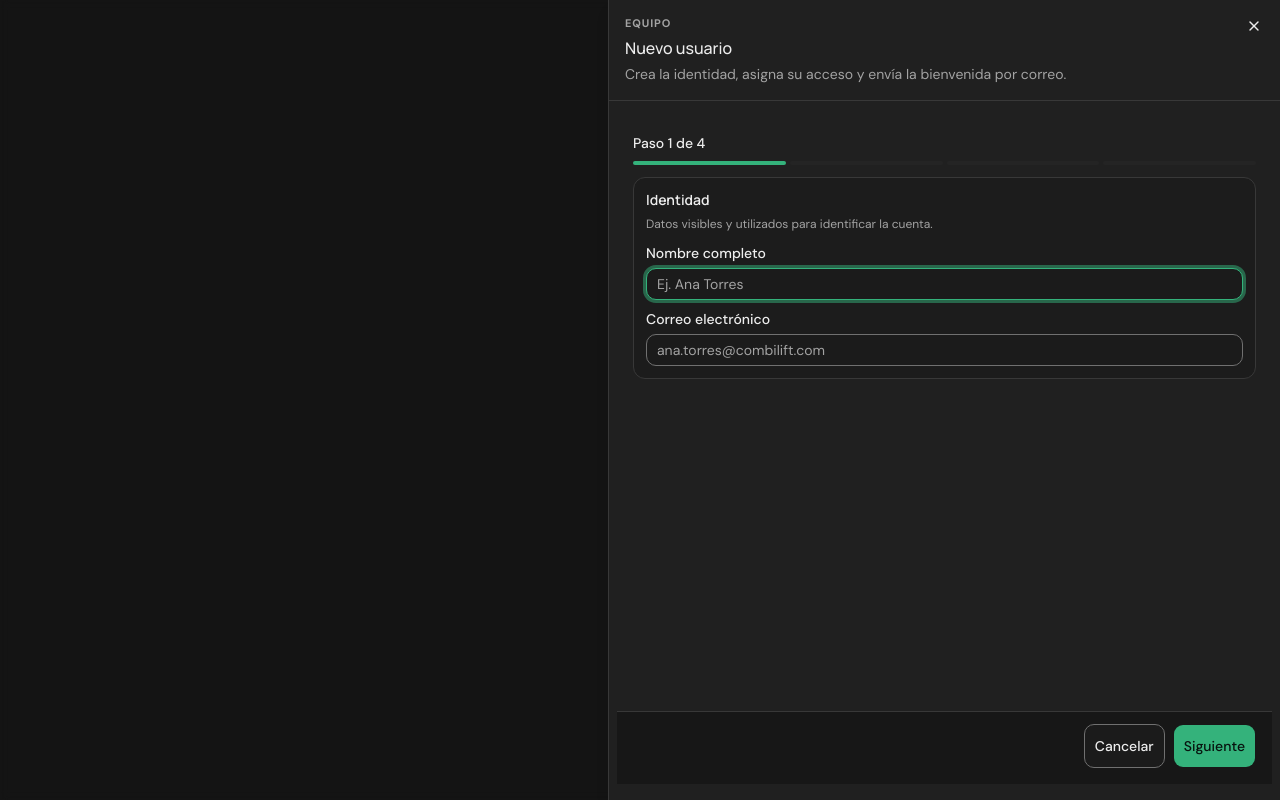
Test: ManagedUserSheet › does not advance without identity fields and explains what is missing
Click the button "Siguiente" at (1214, 746), box [1173,724,1256,768]
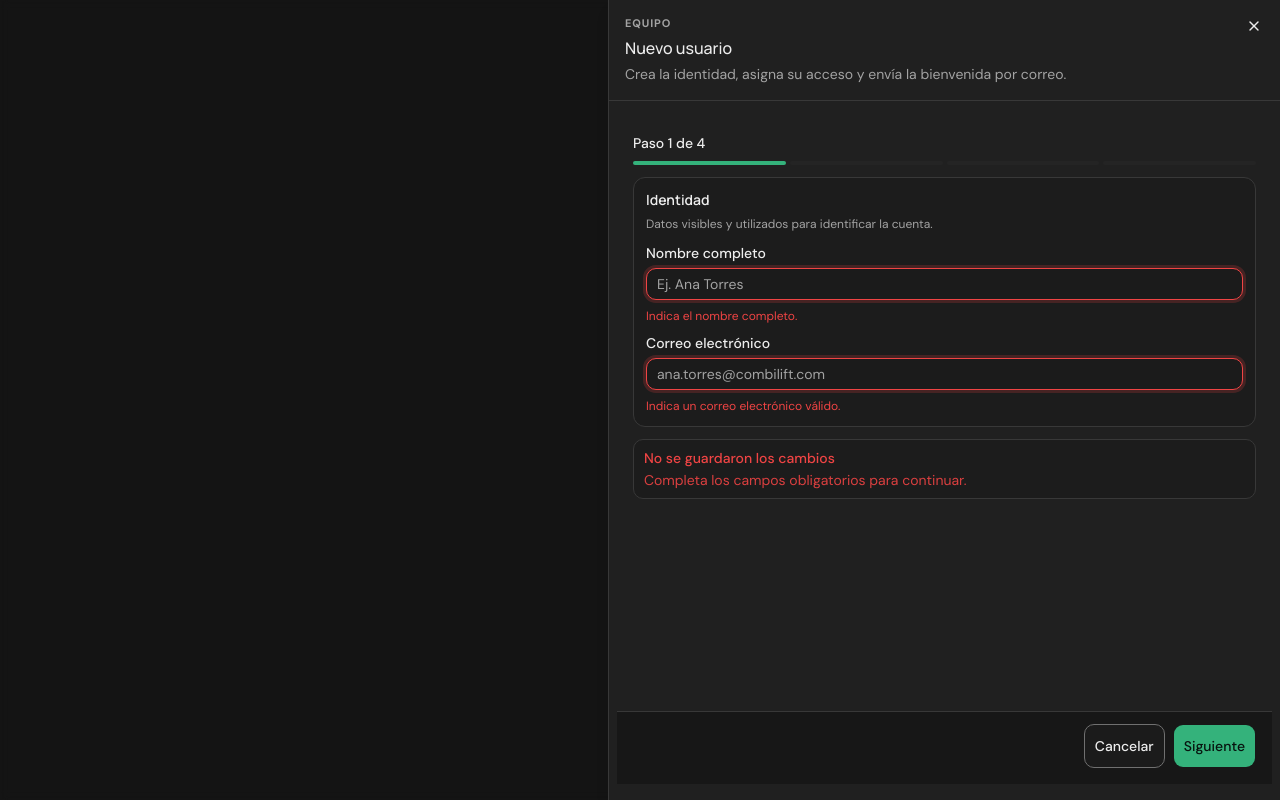
Expected: the text "Paso 1 de 4" is shown, [633,134,705,152]
Expected: the text "Indica el nombre completo." is shown, [646,308,797,324]
Expected: the text "Indica un correo electrónico válido." is shown, [646,398,840,414]
